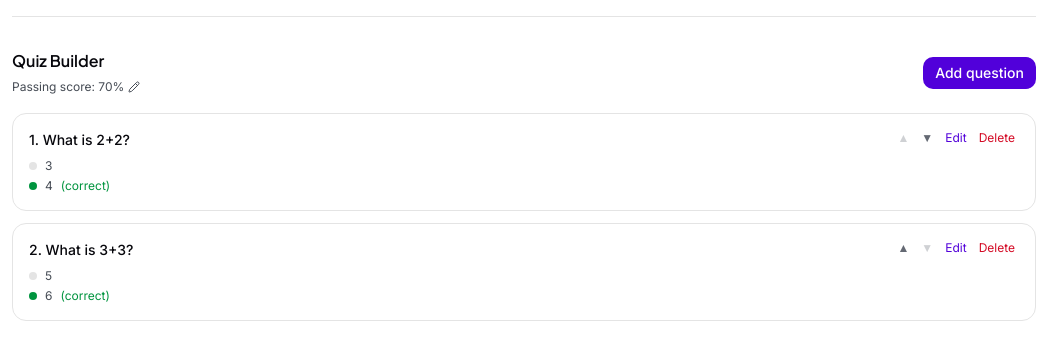
Scenario: QuizBuilder › shows passing score input when edit button is clicked
Click the button with aria-label "edit passing score" at x=76, y=87, box [12, 79, 140, 95]
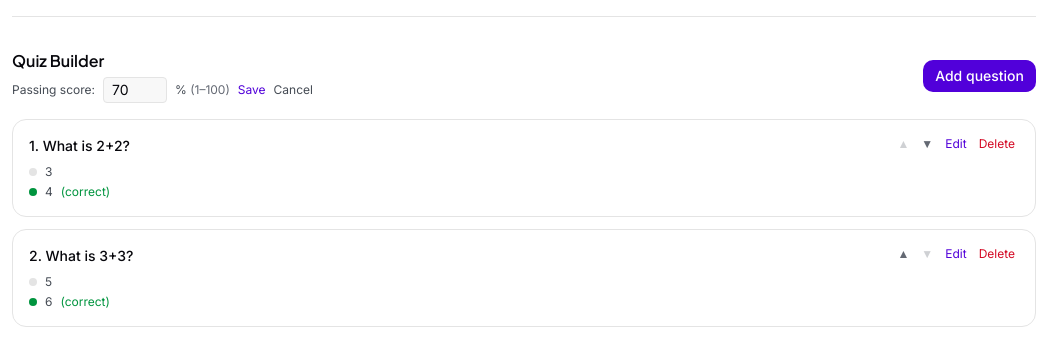
Expected: the number field named "passing score" is shown, [103, 77, 167, 103]
